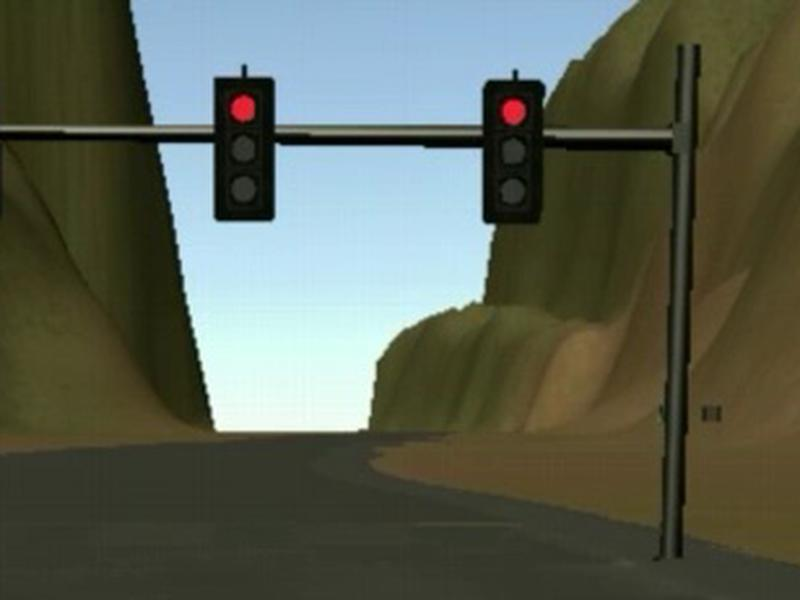Red: (482, 79, 544, 223), (214, 77, 274, 220)
